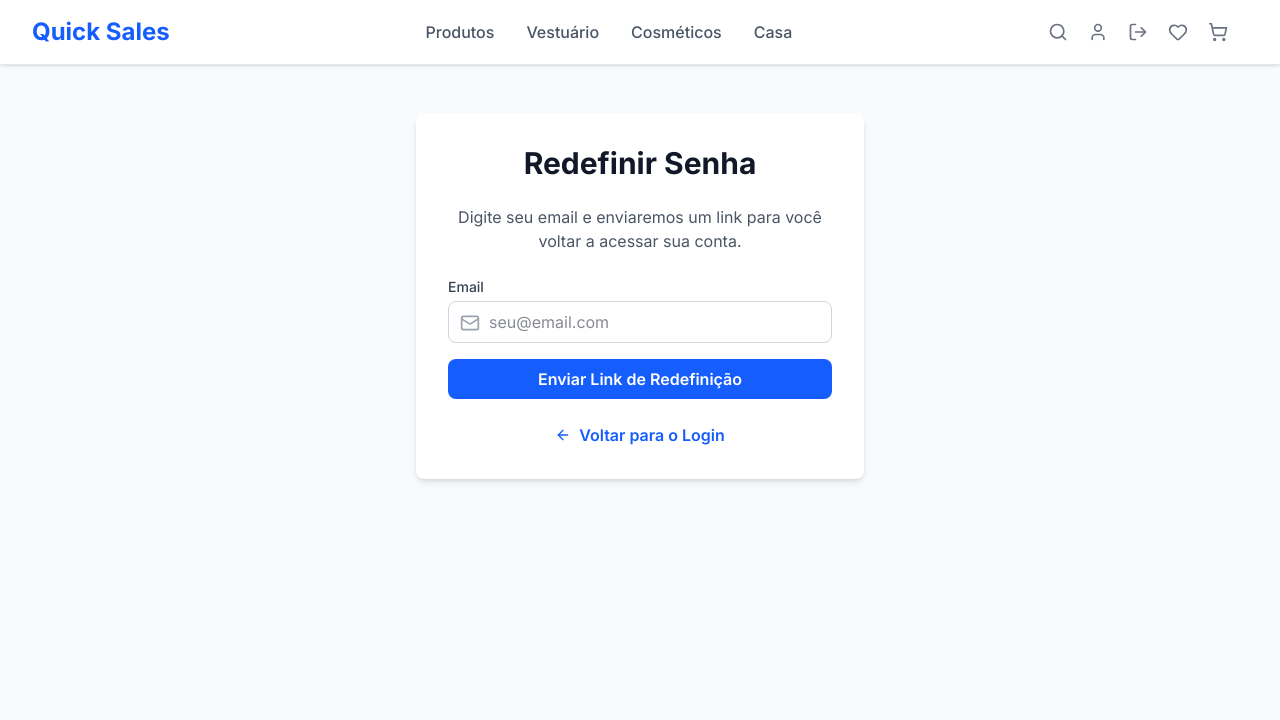
Test case: Forgot Password Page › should show a confirmation message after submitting
This screenshot has width=1280, height=720.
Type "test@example.com" into the field with placeholder "seu@email.com" at coordinates (640, 322), box [448,301,832,343]
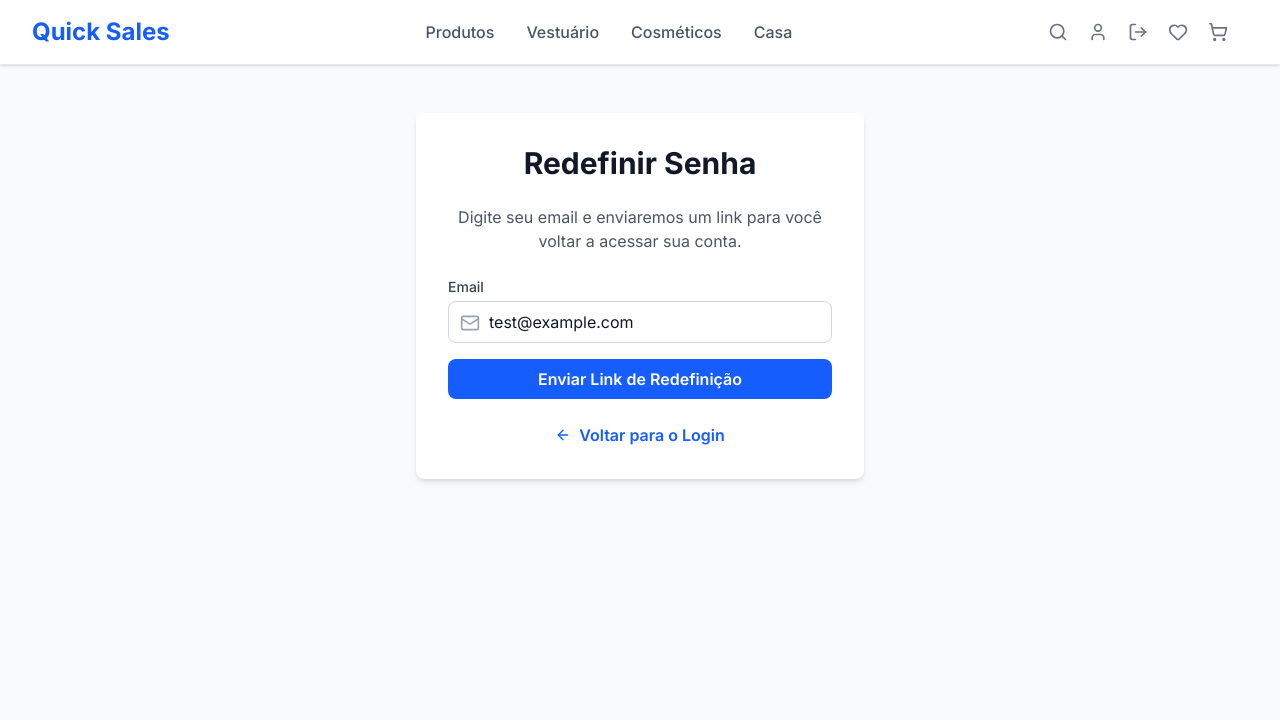
Click the button "Enviar Link de Redefinição" at coordinates (640, 379), box [448,359,832,399]
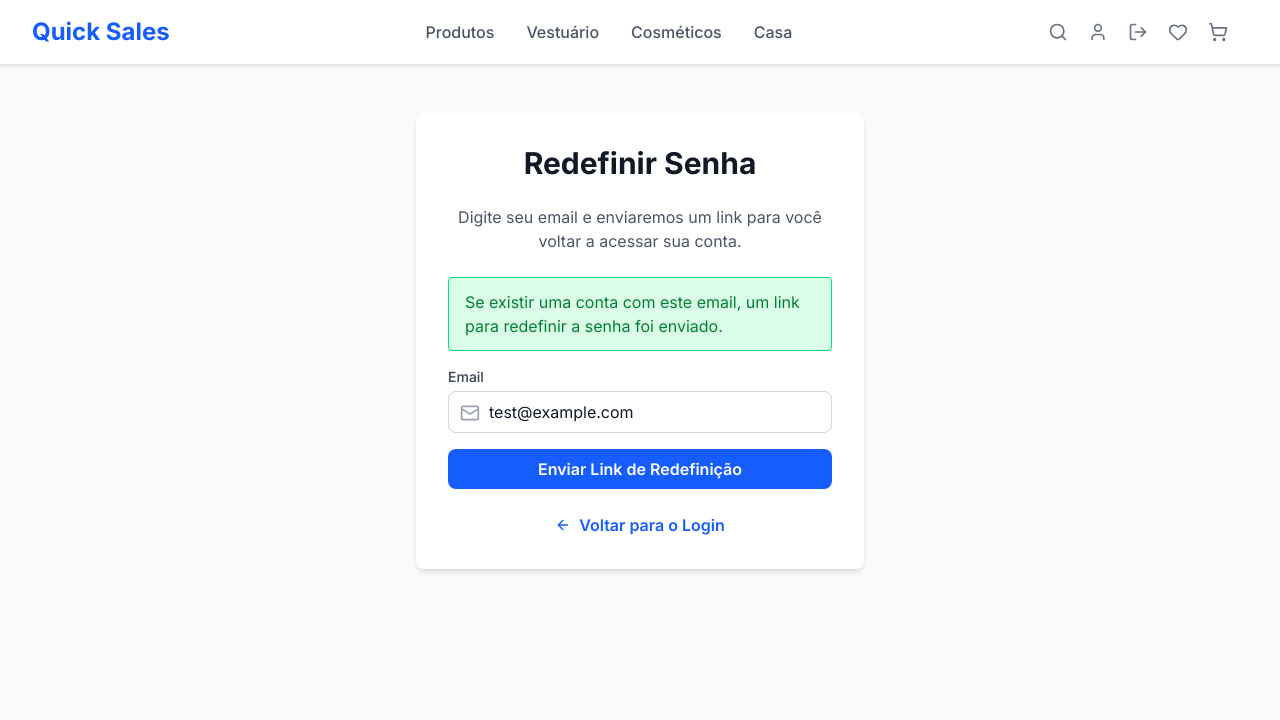
Expected: the text "Se existir uma conta com este email" is shown, [465,292,800,336]
